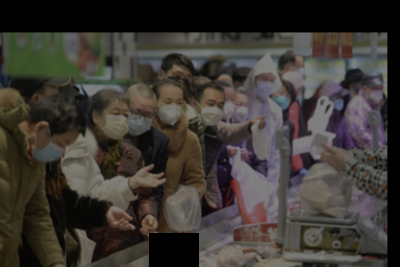with_mask: (27, 137, 71, 166), (100, 107, 129, 142), (126, 106, 155, 137), (155, 96, 183, 125), (199, 98, 224, 126), (253, 75, 275, 99), (271, 88, 293, 110), (221, 94, 235, 121), (235, 99, 249, 122), (369, 86, 384, 104), (332, 96, 345, 111)
